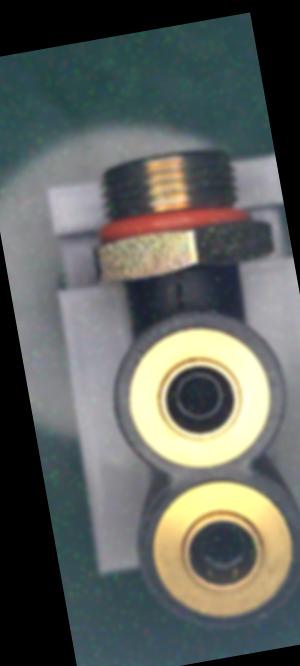craze: (166, 271, 193, 313)
